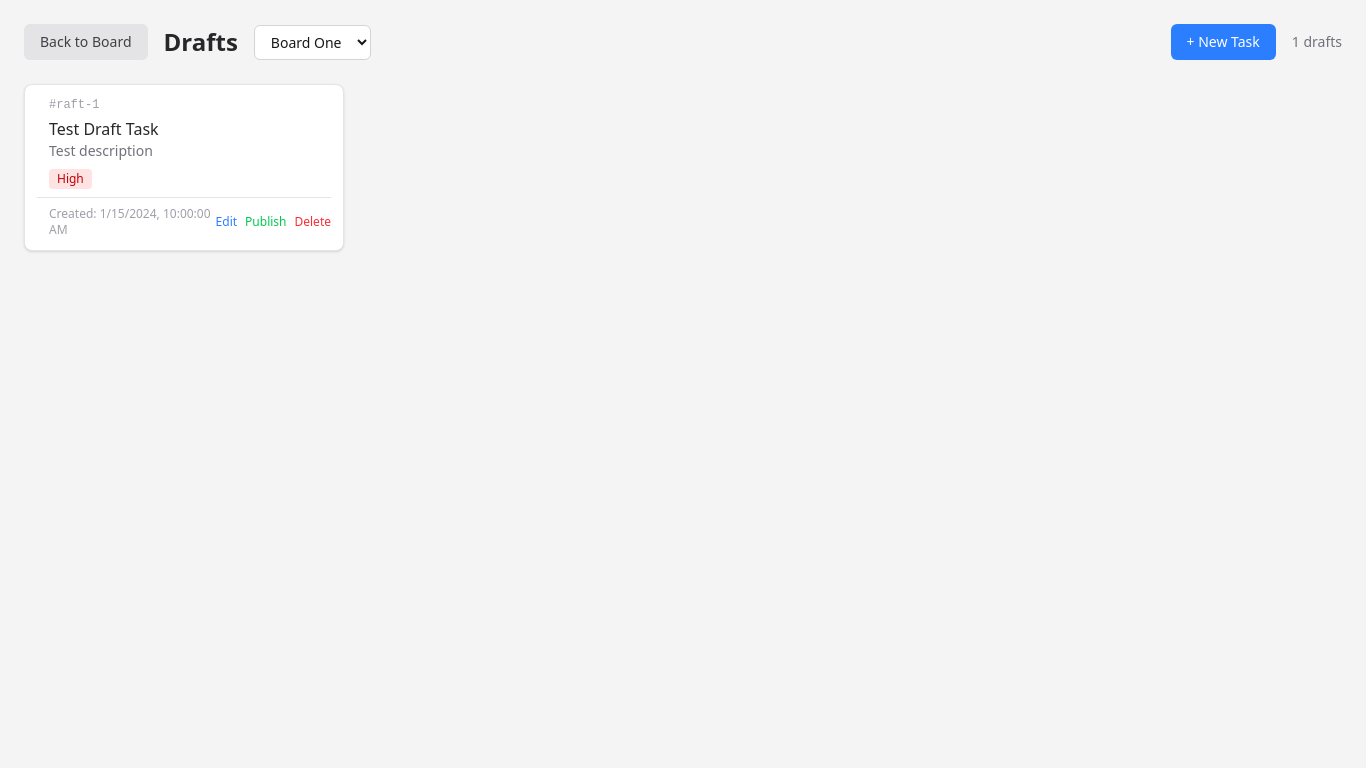
DraftsPage › opens add modal when clicking new task button
Click the button "+ New Task" at (1223,42), box [1170,24,1276,60]
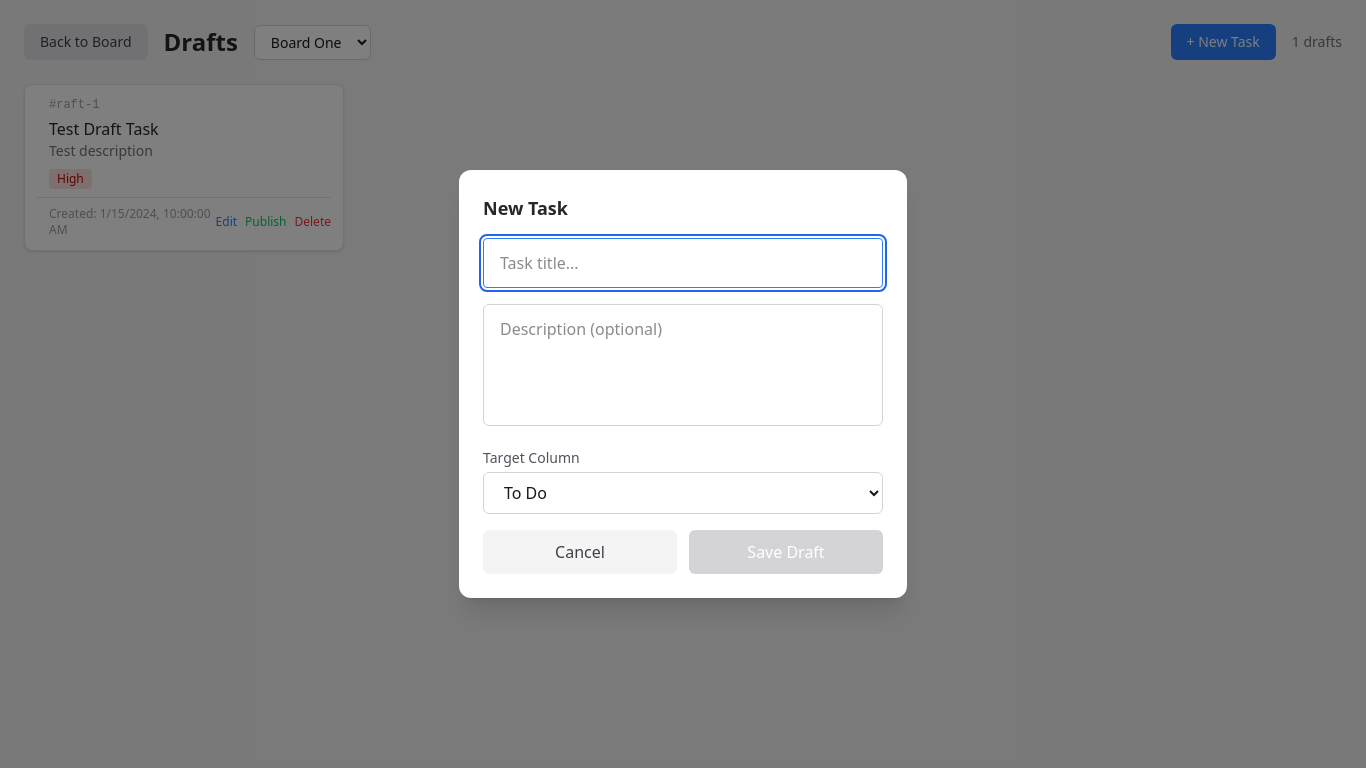
Expected: the field with placeholder "Task title..." is shown, [483,238,883,288]
